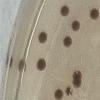brown: (35, 56, 48, 73), (88, 6, 100, 20), (70, 19, 81, 33), (18, 58, 28, 73), (37, 31, 48, 44), (62, 35, 73, 48), (53, 87, 64, 100), (58, 5, 71, 16), (71, 69, 82, 80), (71, 78, 82, 88), (64, 85, 74, 96)
